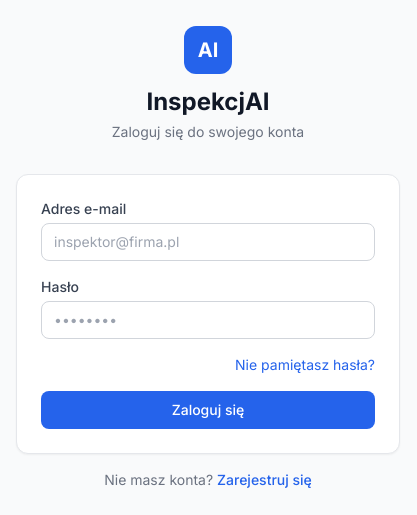
Test case: LoginPage › shows validation error for empty email on submit
The image size is (417, 515).
Fill password but leave email empty
Type "password123" into the password field labelled "Hasło".
click(208, 320); type("password123")  # box left=41, top=301, right=375, bottom=339
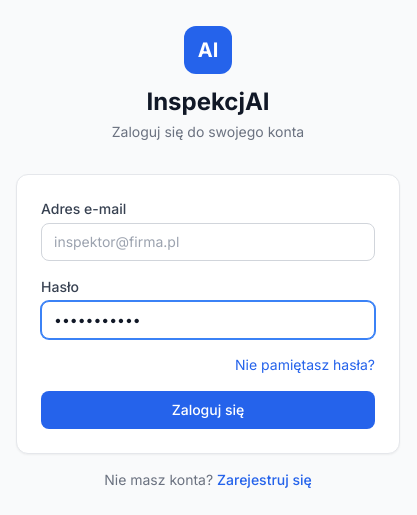
Click the button "Zaloguj się".
click(208, 410)  # box left=41, top=391, right=375, bottom=429
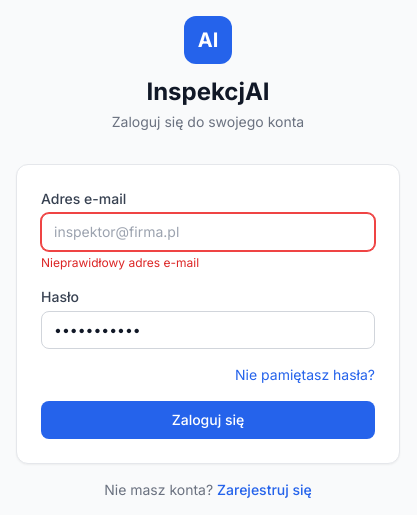
Expected: the text "Nieprawidłowy adres e-mail" is shown, left=41, top=255, right=199, bottom=270
